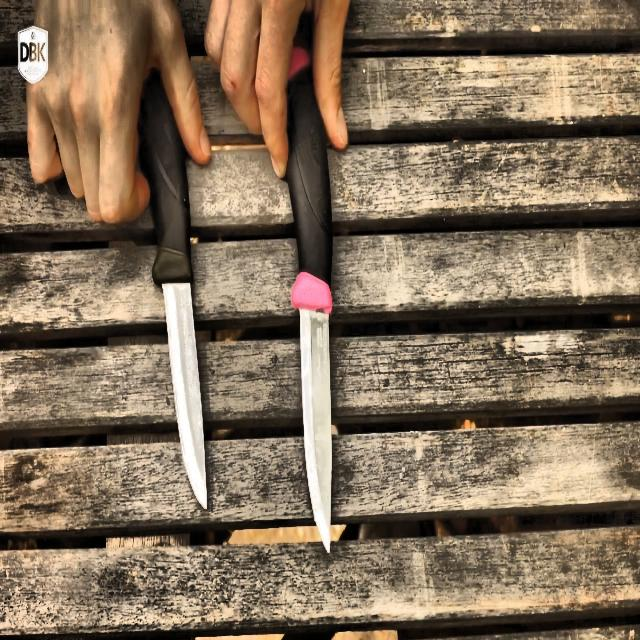knife: (139, 70, 209, 508), (285, 49, 334, 550)
